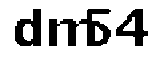4: (115, 7, 152, 52)
6: (87, 7, 114, 48)
d: (9, 3, 43, 50)
m: (45, 15, 92, 51)
